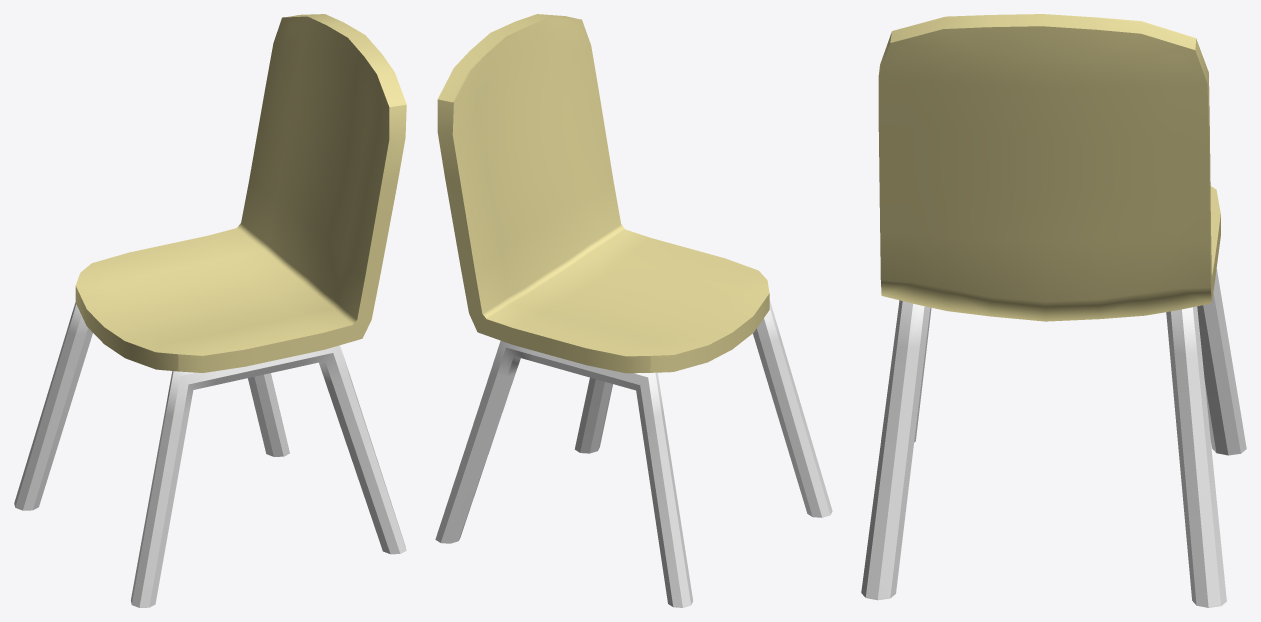
The model's file is Chair (1).fbx.
The picture shows the model from 3 angles, left to right: view 1: azimuth 30°, elevation 25°; view 2: azimuth 150°, elevation 25°; view 3: azimuth 270°, elevation 25°; orthographic projection. The views are drawn at different scales.
Parts seen in each view (by area): view 1: seat, leg_l, leg_r; view 2: seat, leg_r, leg_l; view 3: seat, leg_r, leg_l.
Boxes of the visible parts, x1,y1,x2,y2 form: seat: [75, 14, 406, 372]; leg_l: [131, 345, 406, 607]; leg_r: [14, 302, 289, 510]; seat: [437, 14, 769, 373]; leg_r: [435, 341, 692, 607]; leg_l: [574, 300, 832, 517]; seat: [878, 14, 1220, 321]; leg_r: [1166, 268, 1246, 607]; leg_l: [861, 300, 931, 600].
Bounding box in the file's own units: 2.85 × 4.33 × 2.56.
